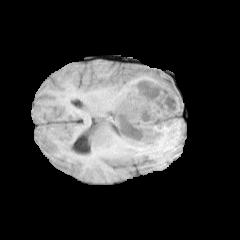glioma: (91, 66, 182, 161)
